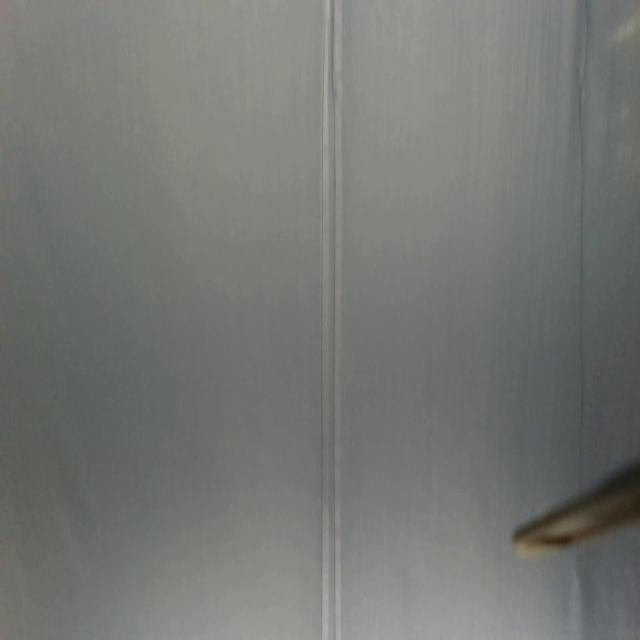crease: (331, 0, 345, 639), (574, 0, 587, 476), (320, 1, 328, 635)
